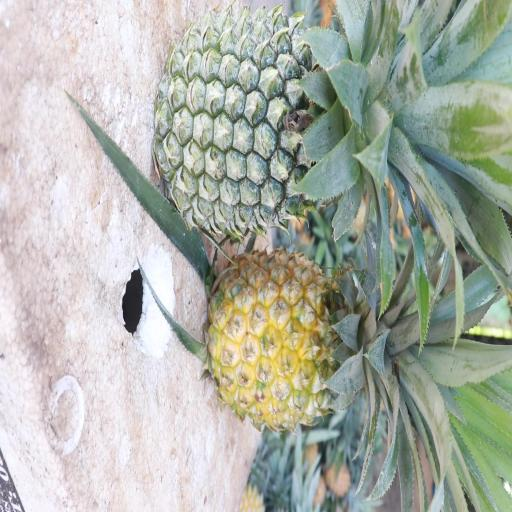Pineapple - v8 v1: (207, 248, 471, 502)
